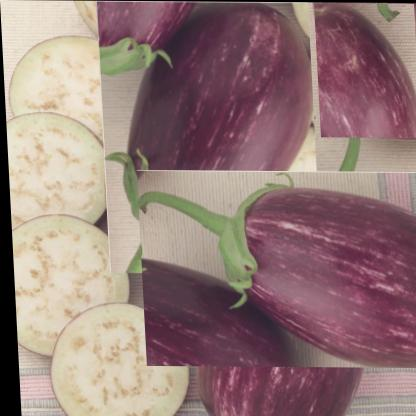eggplant: (159, 146, 414, 393), (96, 1, 320, 275), (313, 1, 415, 139)
